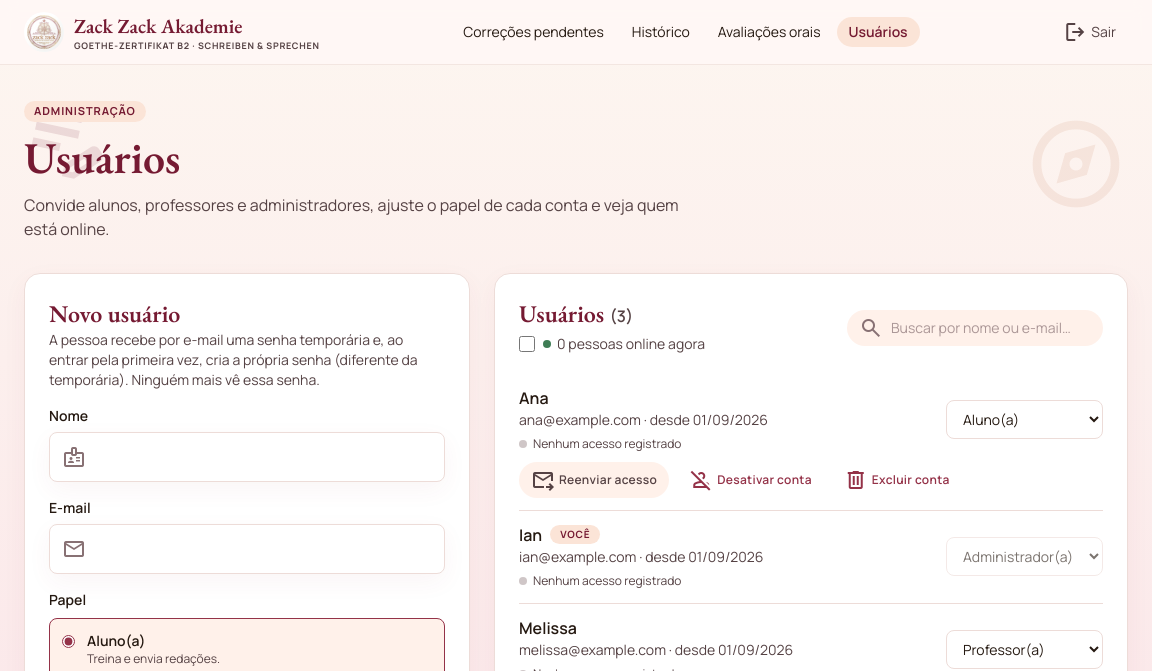
Scenario: user administration › deletes an account after confirmation
Step 1. Click the button with aria-label "Excluir Ana" → (897, 480), box x1=832 y1=462 x2=962 y2=498
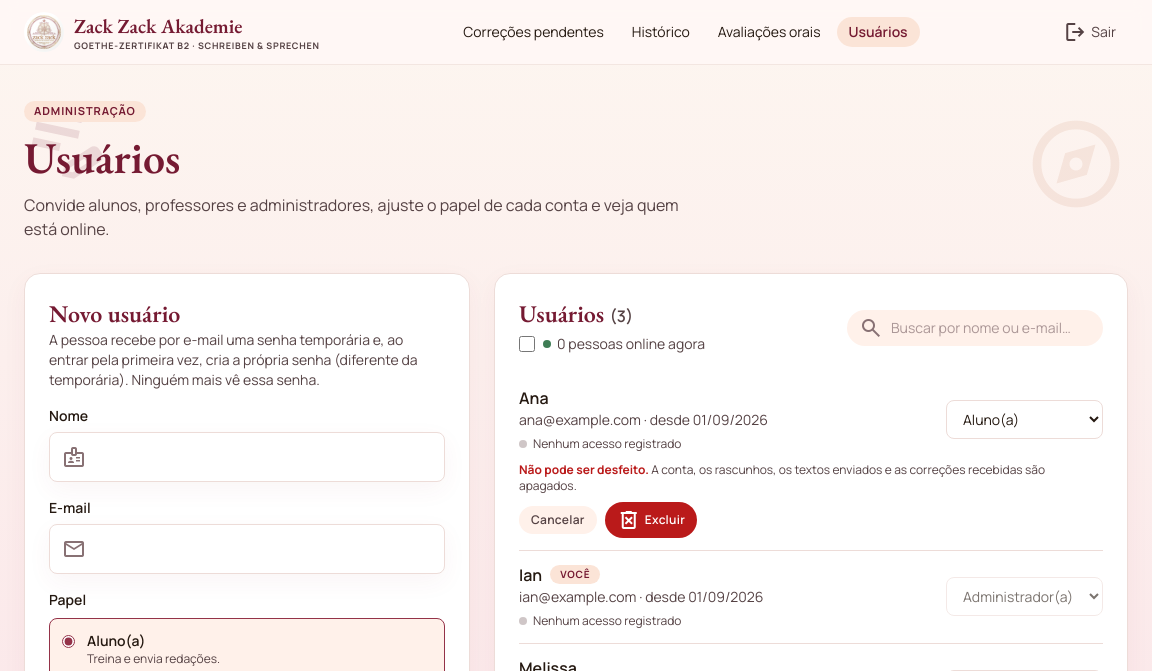
Expected: the text "Não pode ser desfeito." is shown, x1=519 y1=460 x2=649 y2=478
Step 2. Click the button with aria-label "Confirmar exclusão de Ana" → (651, 520), box x1=605 y1=502 x2=697 y2=538
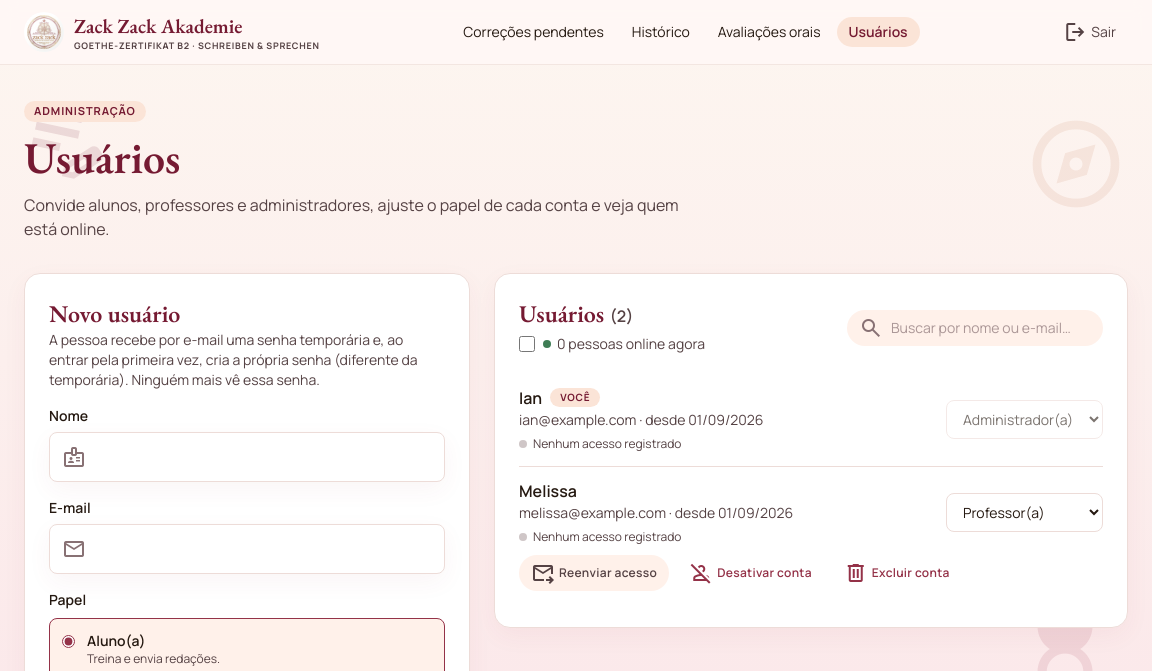
Expected: the text "Ana" is gone
